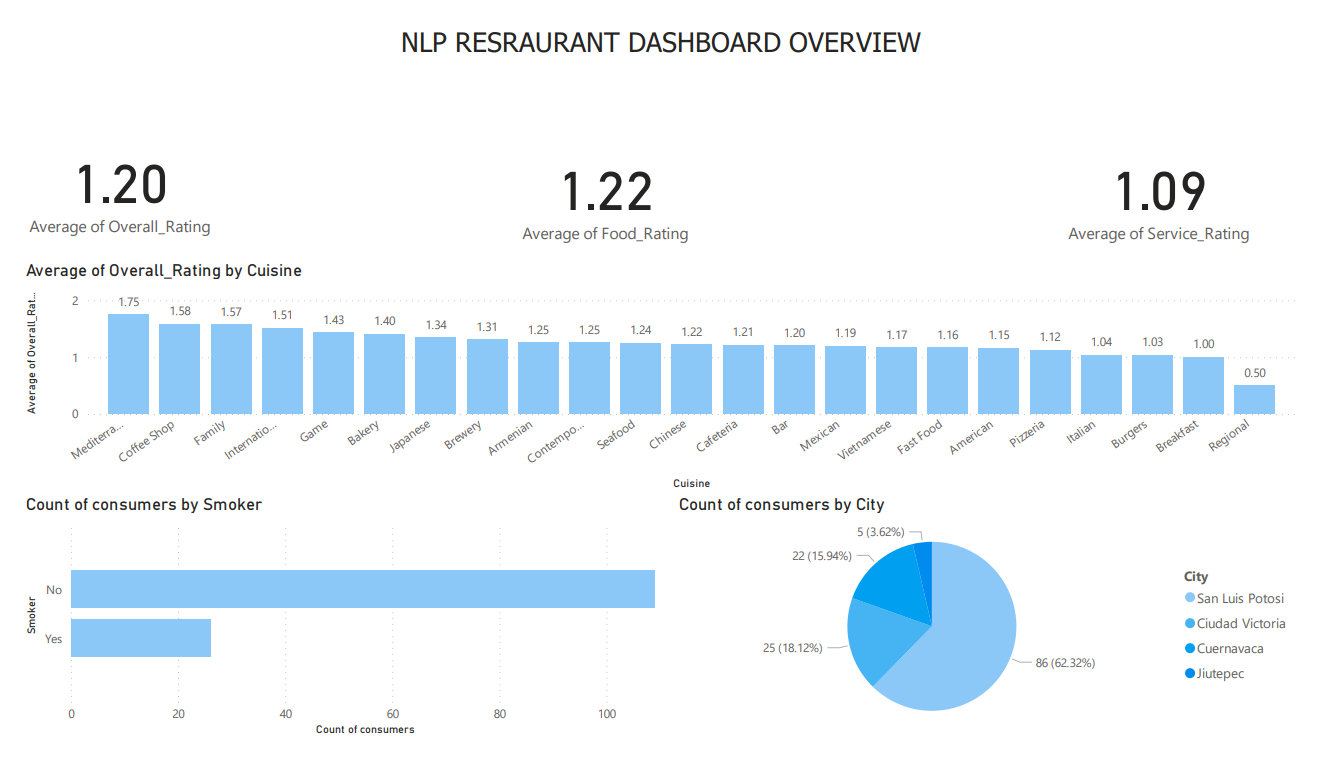

What the dashboard file says about the page in this screenshot:
{"tool":"powerbi","page":{"name":"Page ١","canvas":[1280,720],"ordinal":0},"visuals":[{"type":"clusteredBarChart","fields":{"Category":["consumers.Smoker"],"Y":["Count(consumers)"]},"box":[0,474.4,652.6,245.6],"z":0},{"type":"pieChart","fields":{"Category":["consumers.City"],"Y":["Count(consumers)"]},"box":[652.6,474.4,627.8,245.6],"z":1000},{"type":"card","fields":{"Values":["Avg(ratings.Overall_Rating)"]},"box":[0,109.1,197.7,117],"z":2000},{"type":"card","fields":{"Values":["Avg(ratings.Food_Rating)"]},"box":[479.7,109.1,209.3,131.2],"z":3000},{"type":"card","fields":{"Values":["Avg(ratings.Service_Rating)"]},"box":[1034.8,109.1,206.6,131.2],"z":4000},{"type":"clusteredColumnChart","fields":{"Category":["restaurant_cuisines.Cuisine"],"Y":["Avg(ratings.Overall_Rating)"]},"box":[0,240.3,1280.4,234.1],"z":5000},{"type":"textbox","box":[0,0,1280.4,48.8],"z":6000}]}

Visuals, with their boxes in screenshot pixels (x1, y1, x2, y2), scaled from the page's 1280x720 canvas onto the 1318x760 screenshot:
clusteredBarChart - consumers.Smoker x Count(consumers): {"x1": 0, "y1": 501, "x2": 672, "y2": 759}
pieChart - consumers.City x Count(consumers): {"x1": 672, "y1": 501, "x2": 1317, "y2": 759}
card - Avg(ratings.Overall_Rating): {"x1": 0, "y1": 115, "x2": 204, "y2": 239}
card - Avg(ratings.Food_Rating): {"x1": 494, "y1": 115, "x2": 709, "y2": 254}
card - Avg(ratings.Service_Rating): {"x1": 1066, "y1": 115, "x2": 1278, "y2": 254}
clusteredColumnChart - restaurant_cuisines.Cuisine x Avg(ratings.Overall_Rating): {"x1": 0, "y1": 254, "x2": 1317, "y2": 501}
textbox: {"x1": 0, "y1": 0, "x2": 1317, "y2": 52}
